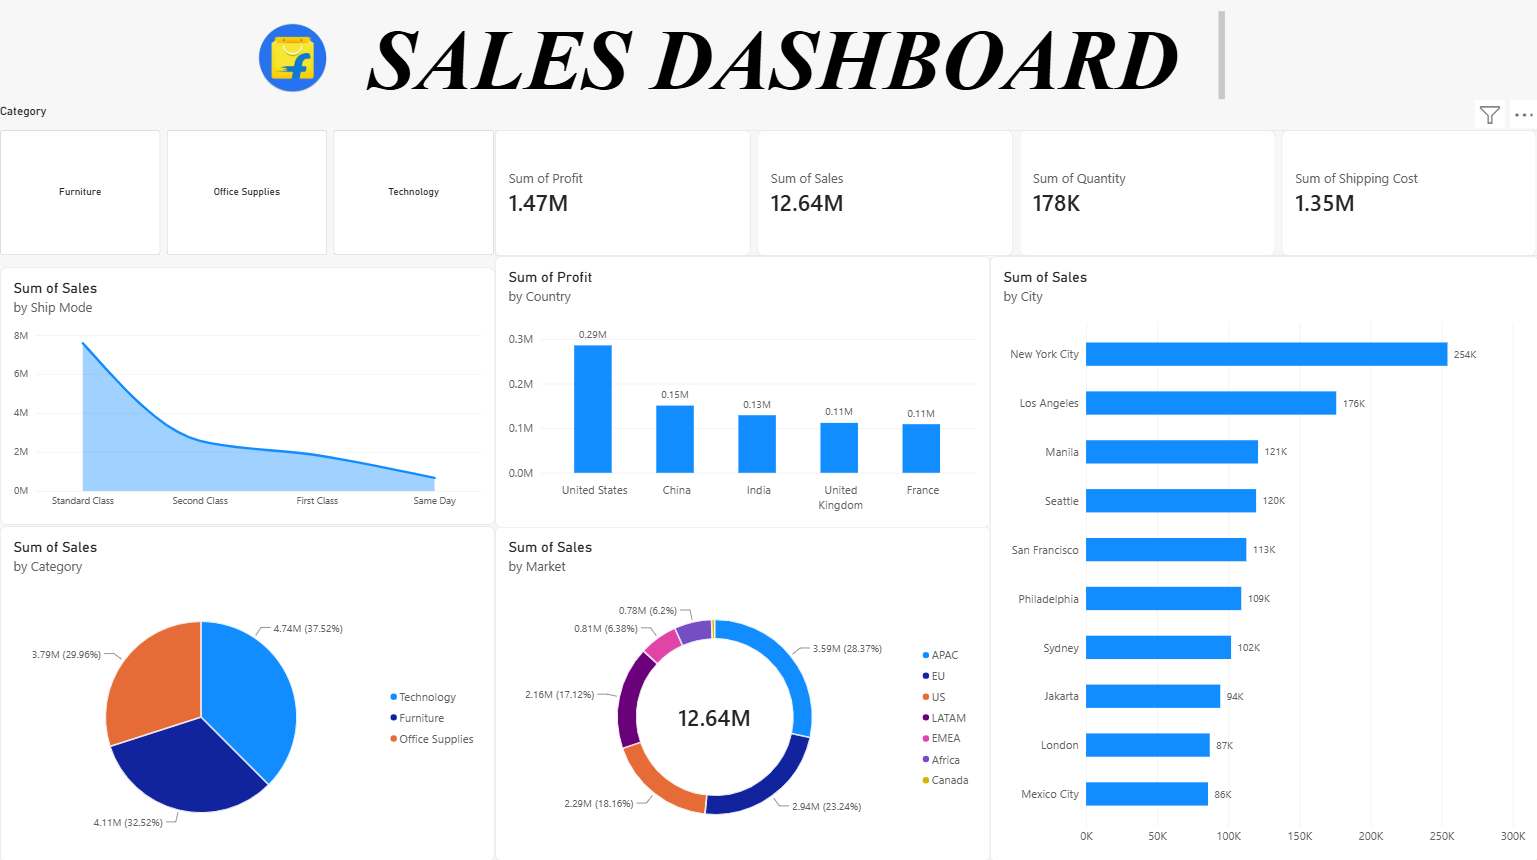

This screenshot's page, from the dashboard's own definition file:
{"tool":"powerbi","page":{"name":"Page 1","canvas":[1920,1080],"ordinal":0},"visuals":[{"type":"donutChart","fields":{"Category":["Orders.Market"],"Y":["Sum(Orders.Sales)"]},"box":[617.5,662.8,617.5,417.8],"z":0},{"type":"pieChart","fields":{"Category":["Orders.Category"],"Y":["Sum(Orders.Sales)"]},"box":[0,662.8,617,418],"z":1},{"type":"clusteredBarChart","fields":{"Category":["Orders.City"],"Y":["Sum(Orders.Sales)"]},"box":[1235.2,325.2,685.2,755.1],"z":2},{"type":"columnChart","fields":{"Category":["Orders.Country"],"Y":["Sum(Orders.Profit)"]},"box":[617.6,325.2,617.6,338.3],"z":3},{"type":"advancedSlicerVisual","fields":{"Values":["Orders.Category"]},"box":[0,135.3,617.5,189.4],"z":4},{"type":"cardVisual","fields":{"Data":["Sum(Orders.Profit)","Sum(Orders.Sales)","Sum(Orders.Quantity)","Sum(Orders.Shipping Cost)"]},"box":[617.6,168,1302.8,157.1],"z":5},{"type":"areaChart","fields":{"Category":["Orders.Ship Mode"],"Y":["Sum(Orders.Sales)"]},"box":[0,340.4,617.6,320.8],"z":6},{"type":"textbox","box":[408.1,19.6,1119.5,115.7],"z":8},{"type":"image","box":[246.6,10.9,237.9,135.3],"z":9}]}

Visuals, with their boxes in screenshot pixels (x1, y1, x2, y2), scaled from the page's 1920x1080 canvas onto the 1537x860 screenshot:
donutChart - Orders.Market x Sum(Orders.Sales): [494, 528, 989, 859]
pieChart - Orders.Category x Sum(Orders.Sales): [0, 528, 494, 859]
clusteredBarChart - Orders.City x Sum(Orders.Sales): [989, 259, 1536, 859]
columnChart - Orders.Country x Sum(Orders.Profit): [494, 259, 989, 528]
advancedSlicerVisual - Orders.Category: [0, 108, 494, 259]
cardVisual - Sum(Orders.Profit) x Sum(Orders.Sales): [494, 134, 1536, 259]
areaChart - Orders.Ship Mode x Sum(Orders.Sales): [0, 271, 494, 527]
textbox: [327, 16, 1223, 108]
image: [197, 9, 388, 116]
